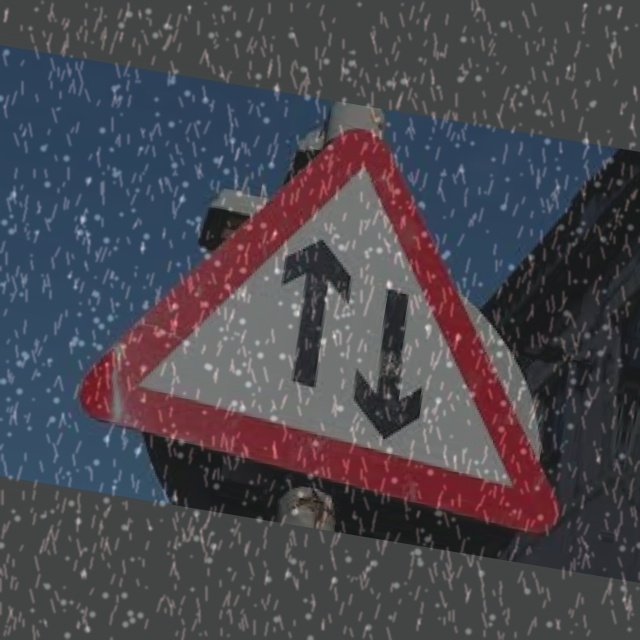Mandatory_Two_Way_Traffic: (102, 103, 603, 525)
